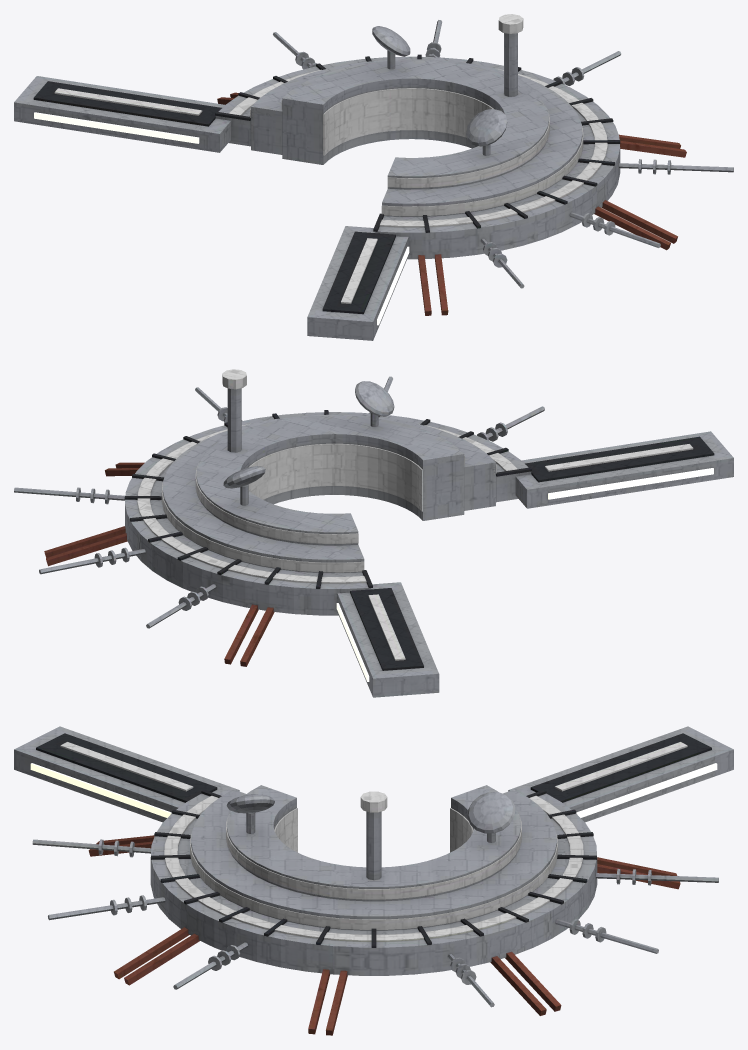
The model's file is empire-dock-2.glb.
3 views of the same model, one above another, from view 1: azimuth 30°, elevation 25°; view 2: azimuth 150°, elevation 25°; view 3: azimuth 270°, elevation 25° (orthographic). The views are drawn at different scales.
Visible parts, largest first — view 1: DockEmp2; view 2: DockEmp2; view 3: DockEmp2.
Boxes of the visible parts, bbox=[...] form: DockEmp2: bbox=[14, 14, 733, 340]; DockEmp2: bbox=[14, 369, 733, 697]; DockEmp2: bbox=[14, 726, 733, 1035].
Bounding box in the file's own units: 2.85 × 0.7994 × 3.22.
5 materials, 5 textured.
